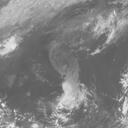cyclone: (48, 61, 92, 109)
